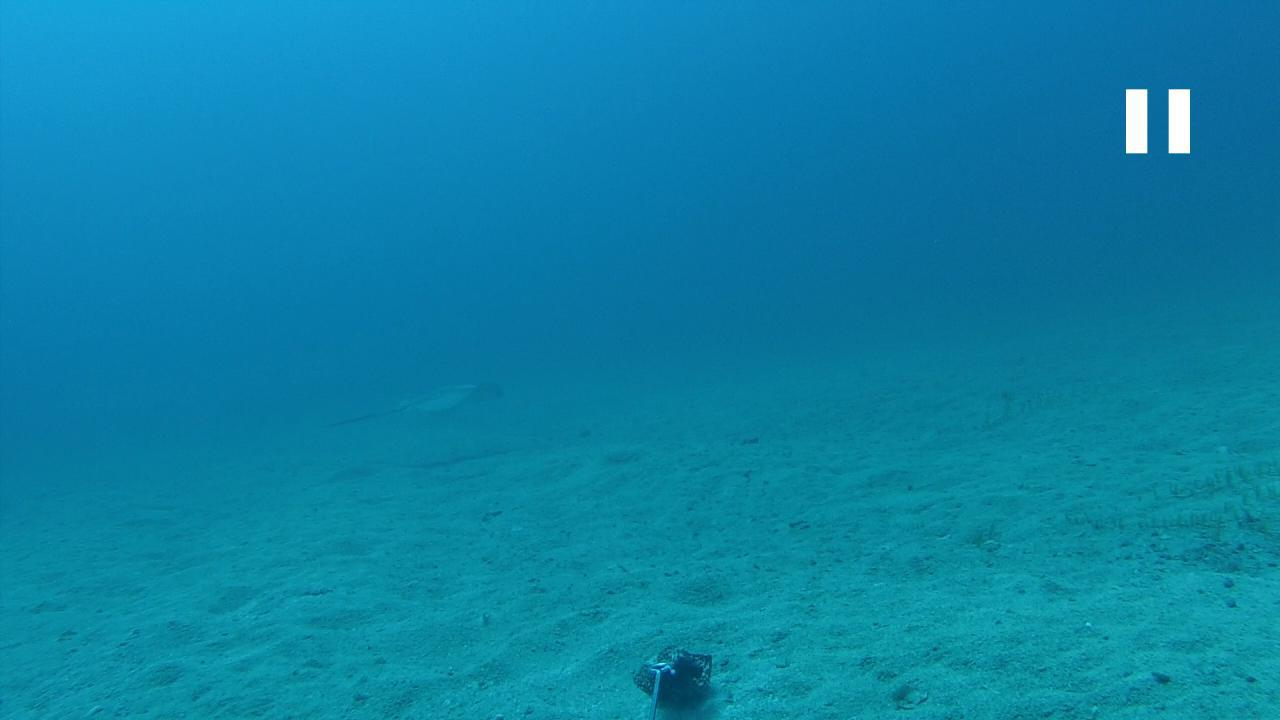dasyatis: (326, 378, 508, 428)
